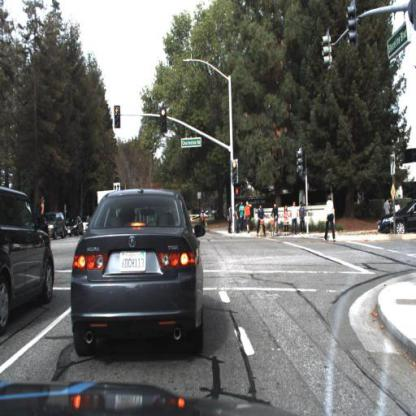biker: (255, 202, 269, 240), (266, 201, 280, 239)
car: (69, 188, 204, 358), (1, 184, 57, 332), (378, 200, 416, 236), (46, 211, 66, 242), (63, 215, 85, 237)
pedestrian: (322, 190, 338, 245), (36, 192, 50, 230), (243, 198, 253, 236), (288, 202, 298, 238), (282, 202, 291, 238), (298, 200, 307, 236), (227, 203, 236, 234), (201, 205, 210, 234), (239, 200, 246, 234), (234, 199, 240, 232), (226, 205, 232, 234), (395, 194, 402, 217)
trafficLight-Red: (230, 158, 241, 189), (158, 105, 168, 136)
trafficLight-RedLeft: (112, 104, 122, 131)
